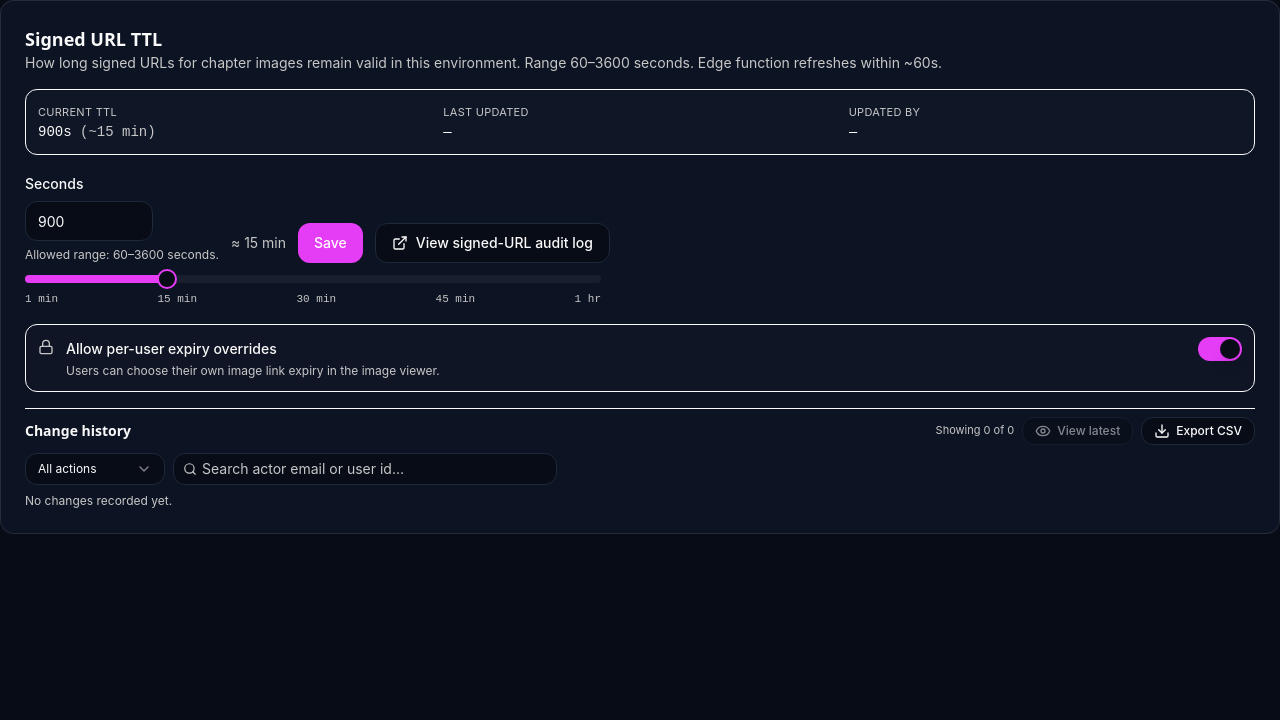
Test: AdminSignedUrlTtlSection — TTL validation › renders the same SQLSTATE label + Details text in toast and inline panel (check_violation (23514))
Replace the text in the number field labelled "Seconds" with "1200" at [89, 221], box [25, 201, 153, 241]
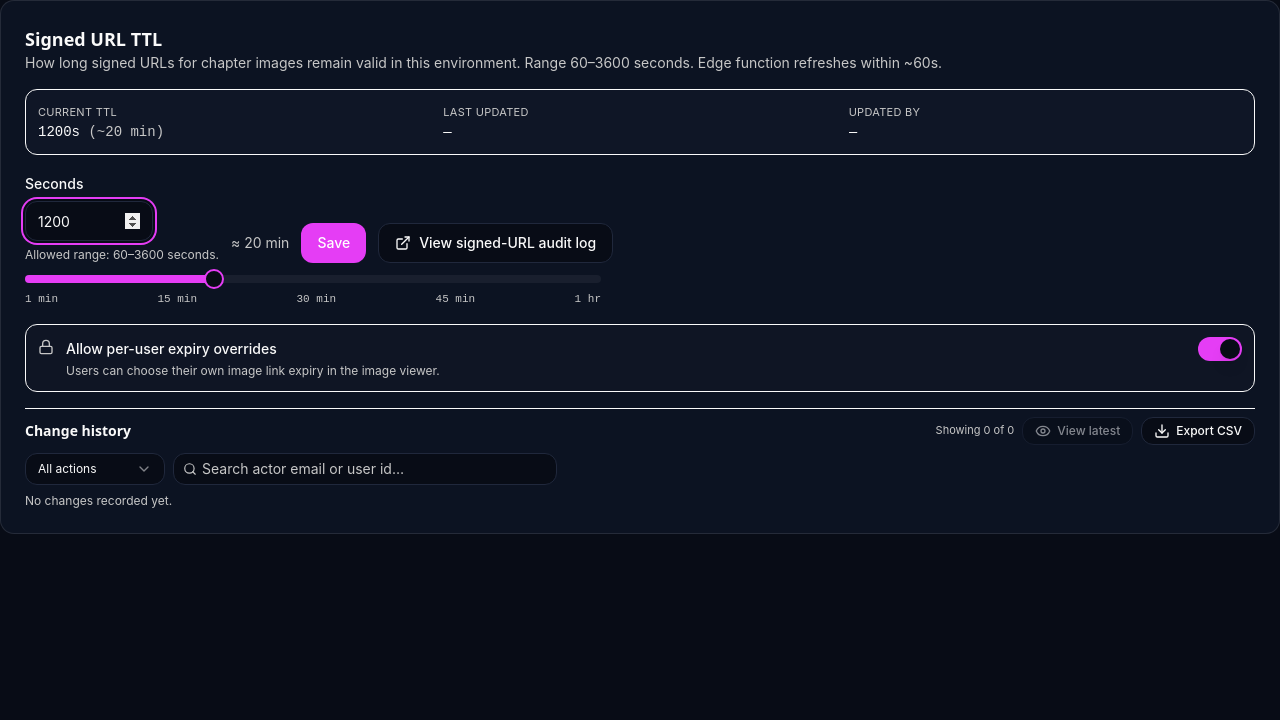
Now the button "Save" is enabled
Click the button "Save" at [334, 243], box [301, 223, 366, 263]
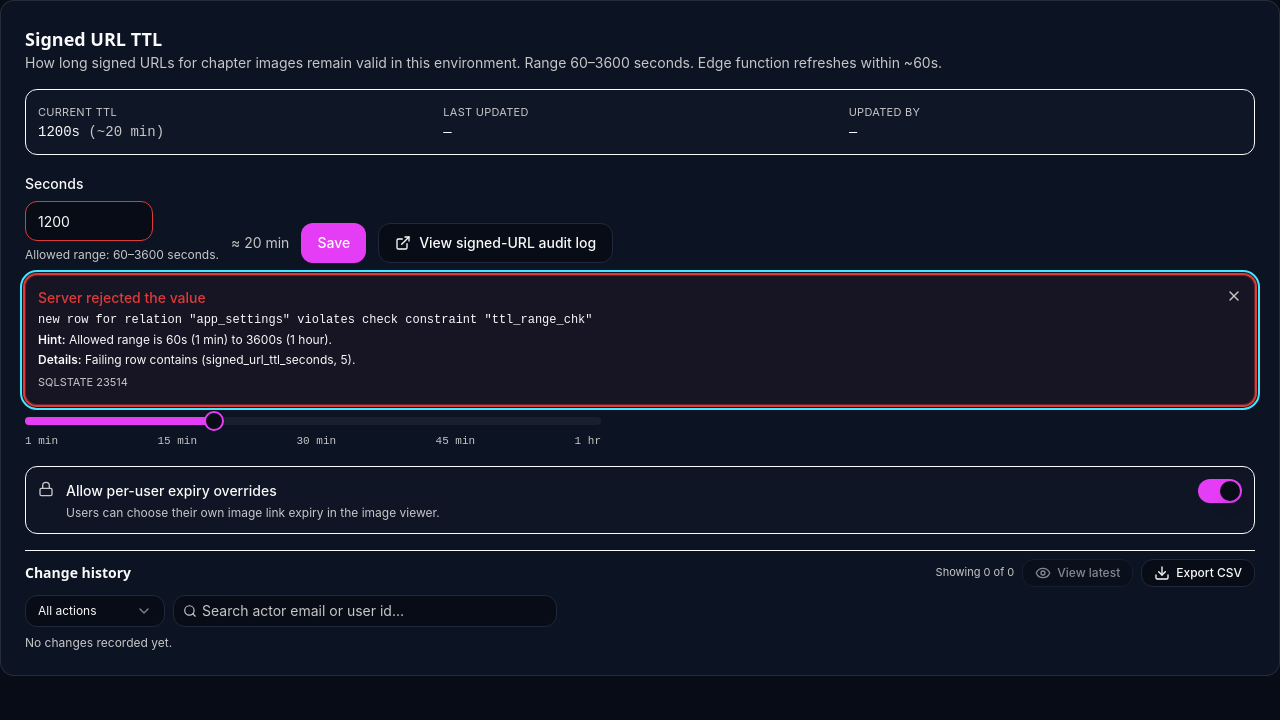
Now the message is shown, box [25, 275, 1255, 405]
Now the message shows "Details:", box [38, 352, 82, 367]
Now the message shows "Failing row contains (signed_url_ttl_seconds, 5).", box [85, 352, 355, 367]
